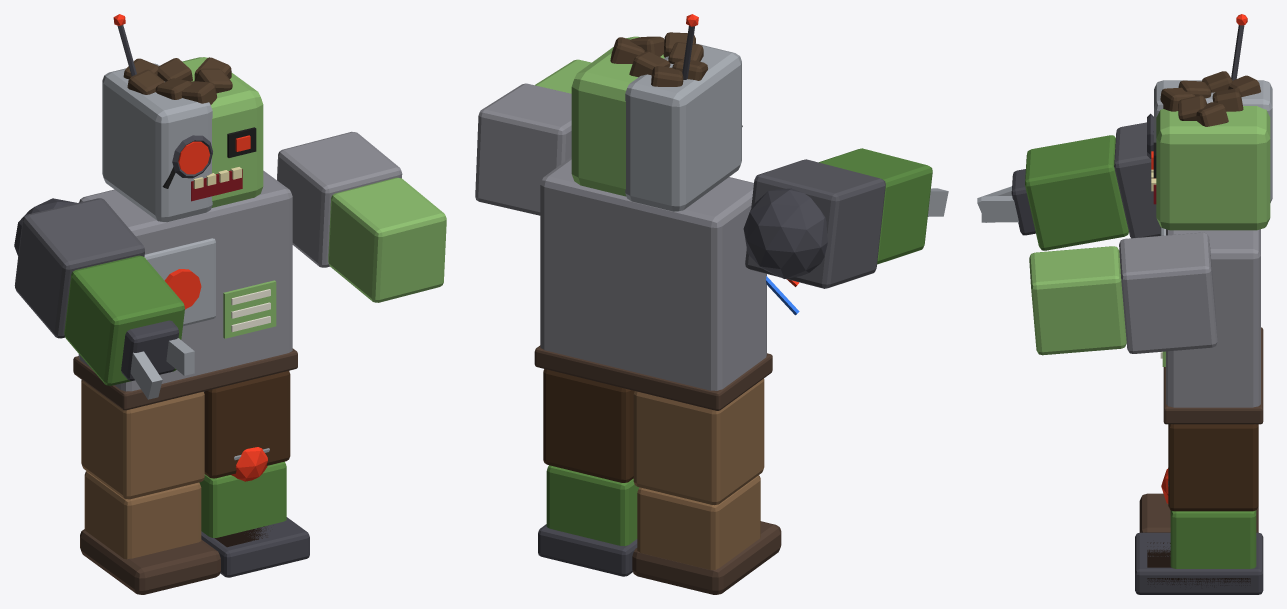
File: zombi_cyborg.obj
3 renders of one model, left to right at view 1: azimuth 30°, elevation 25°; view 2: azimuth 150°, elevation 25°; view 3: azimuth 270°, elevation 25°, orthographic. The views are drawn at different scales.
Parts seen in each view (by area): view 1: Torso, Head, LeftLeg, RightArm, Cube.025, Cube.026, Cube.032, Cube.033, RightLeg, LeftArm; view 2: Torso, Head, LeftLeg, RightArm, Cube.025, Cube.032, LeftArm, Cube.033, Cube.026, RightLeg; view 3: RightArm, Head, Torso, Cube.026, Cube.032, Cube.033, RightLeg, Cube.025, LeftArm, LeftLeg, Cube.034.
Boxes of the visible parts, x1,y1,x2,y2 form: Torso: (73, 170, 297, 410); Head: (102, 14, 263, 222); LeftLeg: (80, 380, 220, 594); RightArm: (277, 131, 446, 302); Cube.025: (14, 198, 144, 338); Cube.026: (64, 255, 184, 385); Cube.032: (204, 371, 290, 478); Cube.033: (199, 461, 286, 537); RightLeg: (201, 447, 309, 577); LeftArm: (14, 198, 194, 399); Torso: (534, 157, 799, 410); Head: (571, 14, 742, 211); LeftLeg: (632, 378, 781, 594); RightArm: (475, 59, 591, 215); Cube.025: (745, 159, 885, 288); Cube.032: (543, 369, 634, 482); LeftArm: (743, 188, 948, 278); Cube.033: (546, 465, 639, 546); Cube.026: (819, 148, 932, 264); RightLeg: (538, 524, 637, 576); RightArm: (1029, 232, 1217, 355); Head: (1147, 14, 1272, 230); Torso: (1160, 227, 1263, 424); Cube.026: (1025, 135, 1128, 250); Cube.032: (1168, 424, 1258, 511); Cube.033: (1170, 510, 1256, 568); RightLeg: (1135, 468, 1263, 594); Cube.025: (1114, 122, 1160, 238); LeftArm: (977, 169, 1035, 235); LeftLeg: (1139, 493, 1258, 532); Cube.034: (1147, 542, 1250, 587).
Size of the model in its own units: 4 by 6.02 by 3.11.
5 materials, 1 textured.
